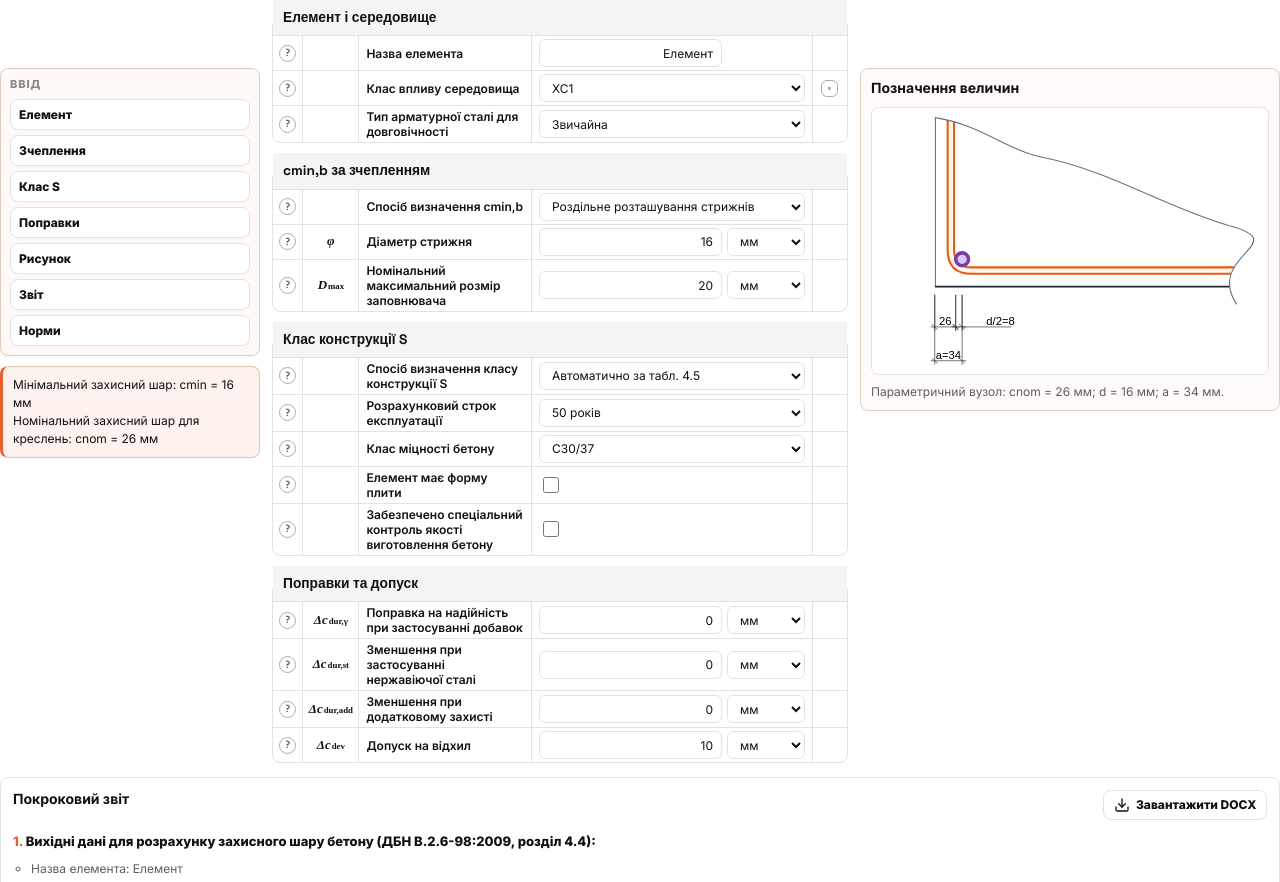
Test: ConcreteCoverDurabilityCalculator › shows conditional bond fields for the selected mode
Expected: the field labelled "Діаметр стрижня" is shown, top-left (539, 228), bottom-right (722, 256)
Expected: the field labelled "Менша сторона прямокутного каналу" is not shown
Select "Канал прямокутний" in the dropdown labelled "Спосіб визначення cmin,b" at (672,207), box top-left (539, 193), bottom-right (805, 221)
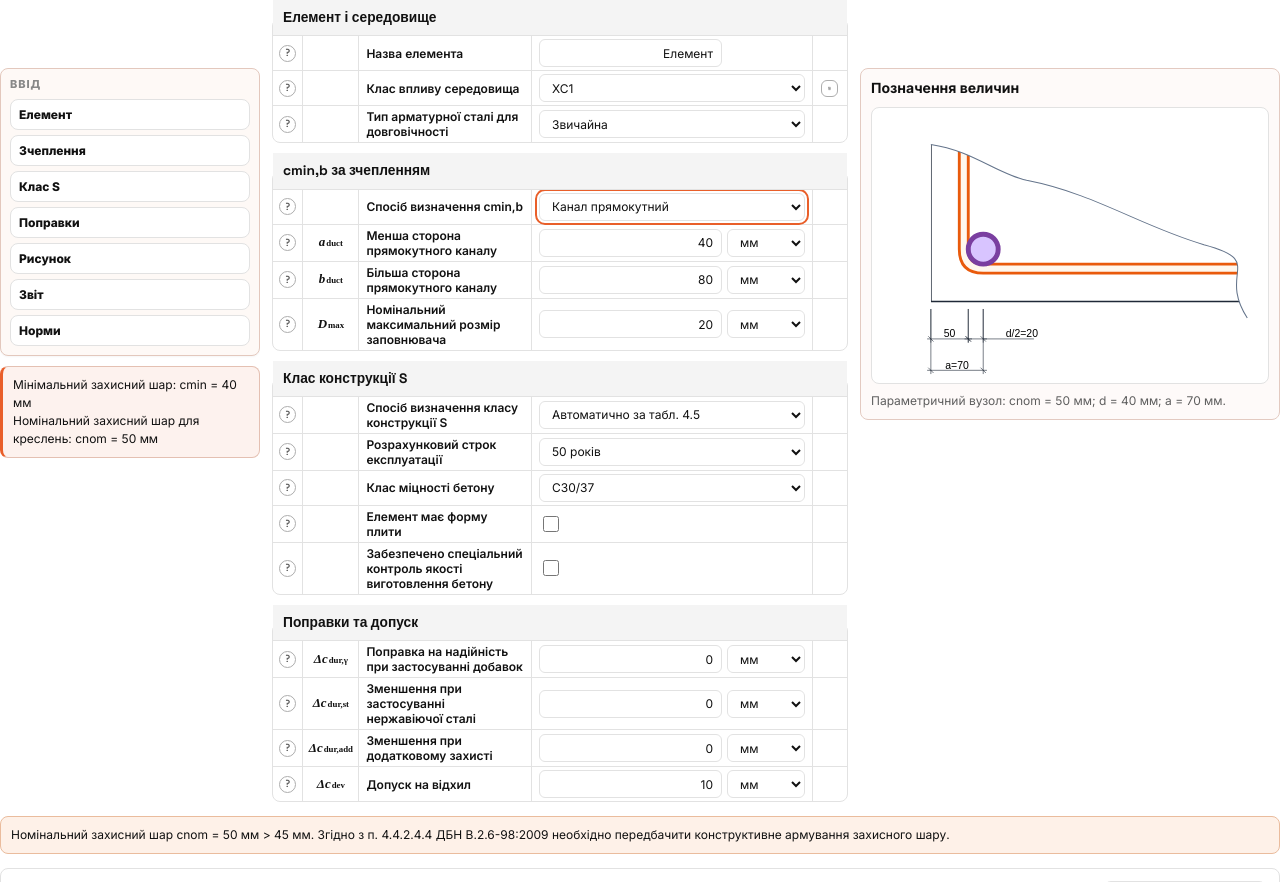
Expected: the field labelled "Менша сторона прямокутного каналу" is shown, top-left (539, 229), bottom-right (722, 257)
Expected: the field labelled "Більша сторона прямокутного каналу" is shown, top-left (539, 266), bottom-right (722, 294)
Expected: the label "Діаметр стрижня" is gone
